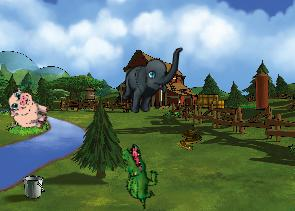crocodile: (106, 141, 170, 210)
elephant: (120, 42, 183, 117)
pig: (3, 86, 53, 134)
